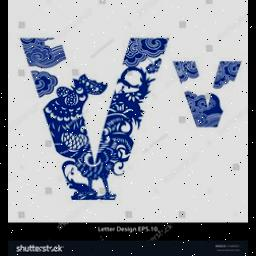v: (16, 32, 172, 208), (168, 58, 246, 132)
